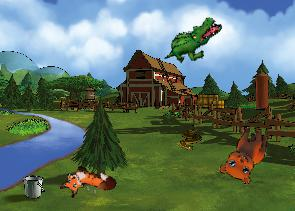bear: (217, 120, 270, 186)
crocodile: (162, 6, 224, 75)
fox: (57, 159, 118, 210)
